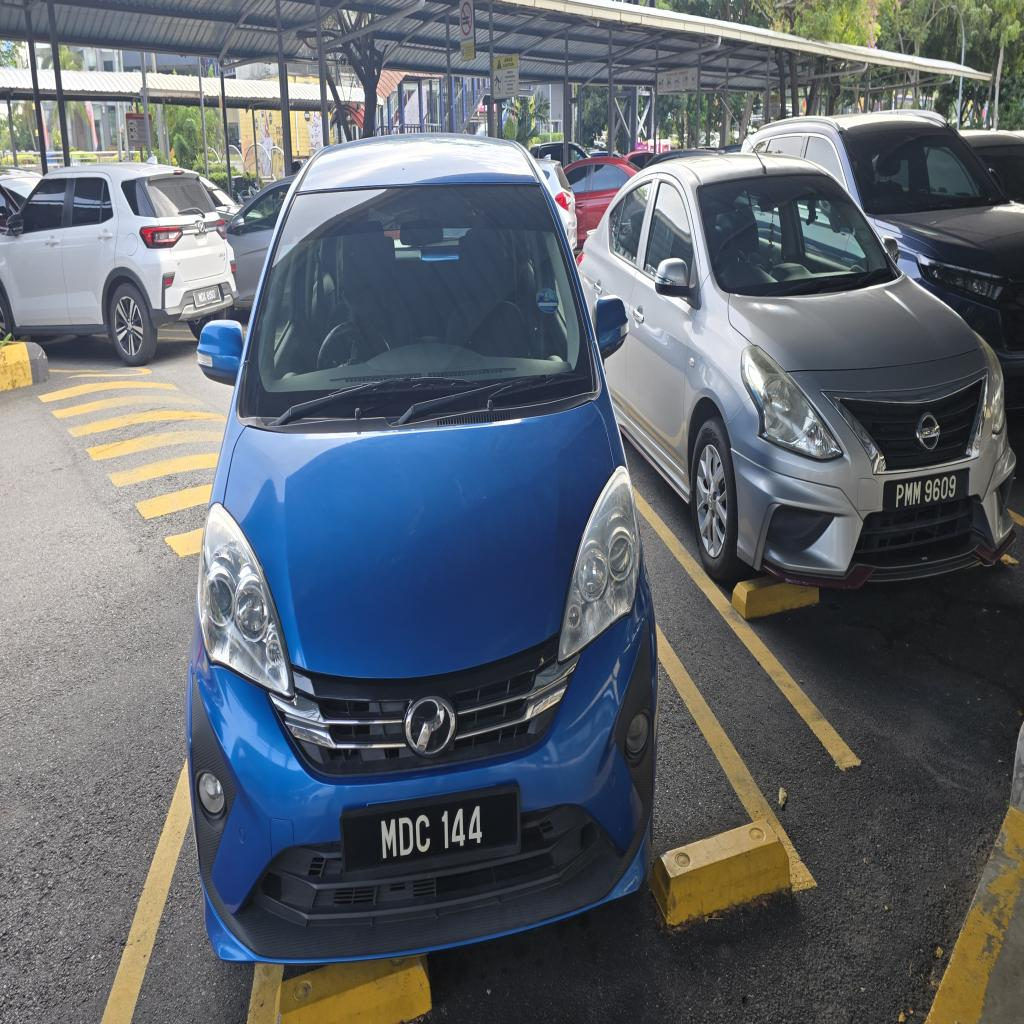car: (188, 136, 656, 963), (580, 154, 1015, 587)
car plate: (341, 787, 520, 878), (884, 470, 968, 510)
